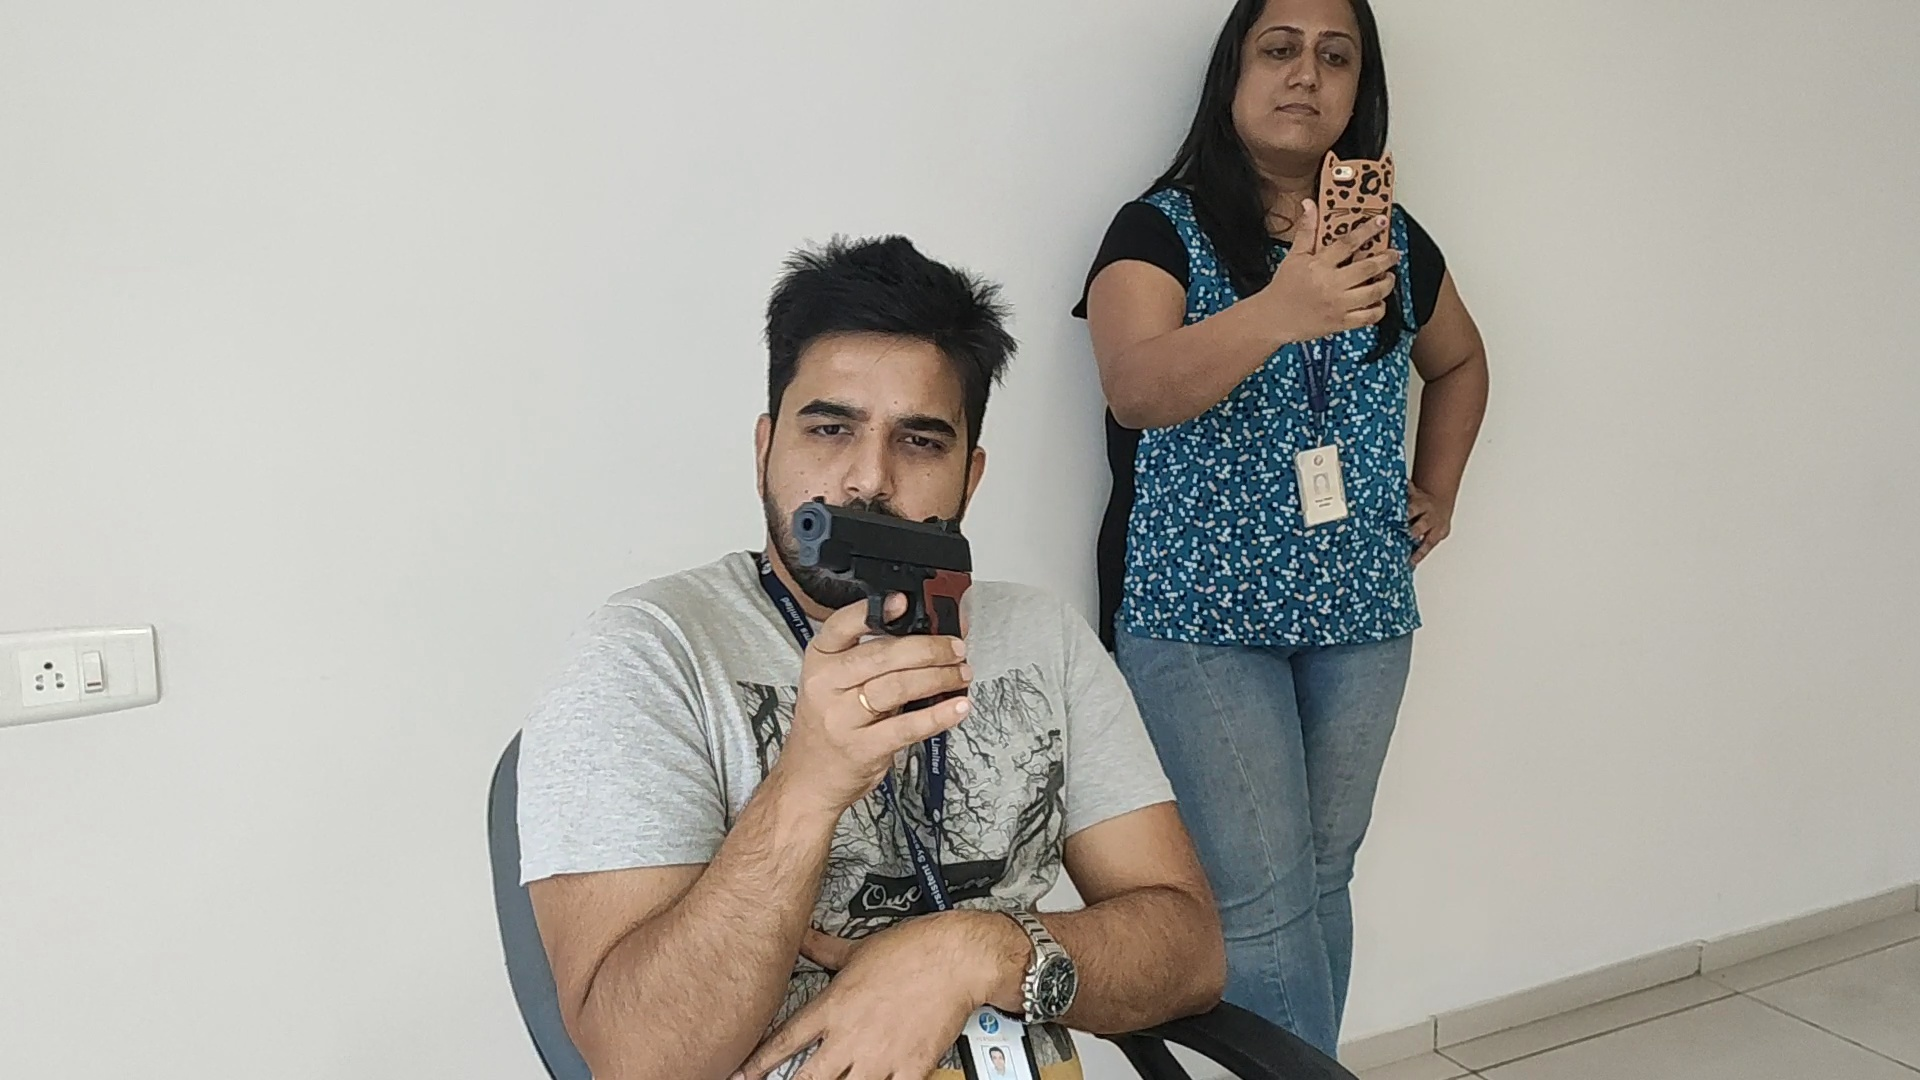gun: (790, 495, 971, 591)
